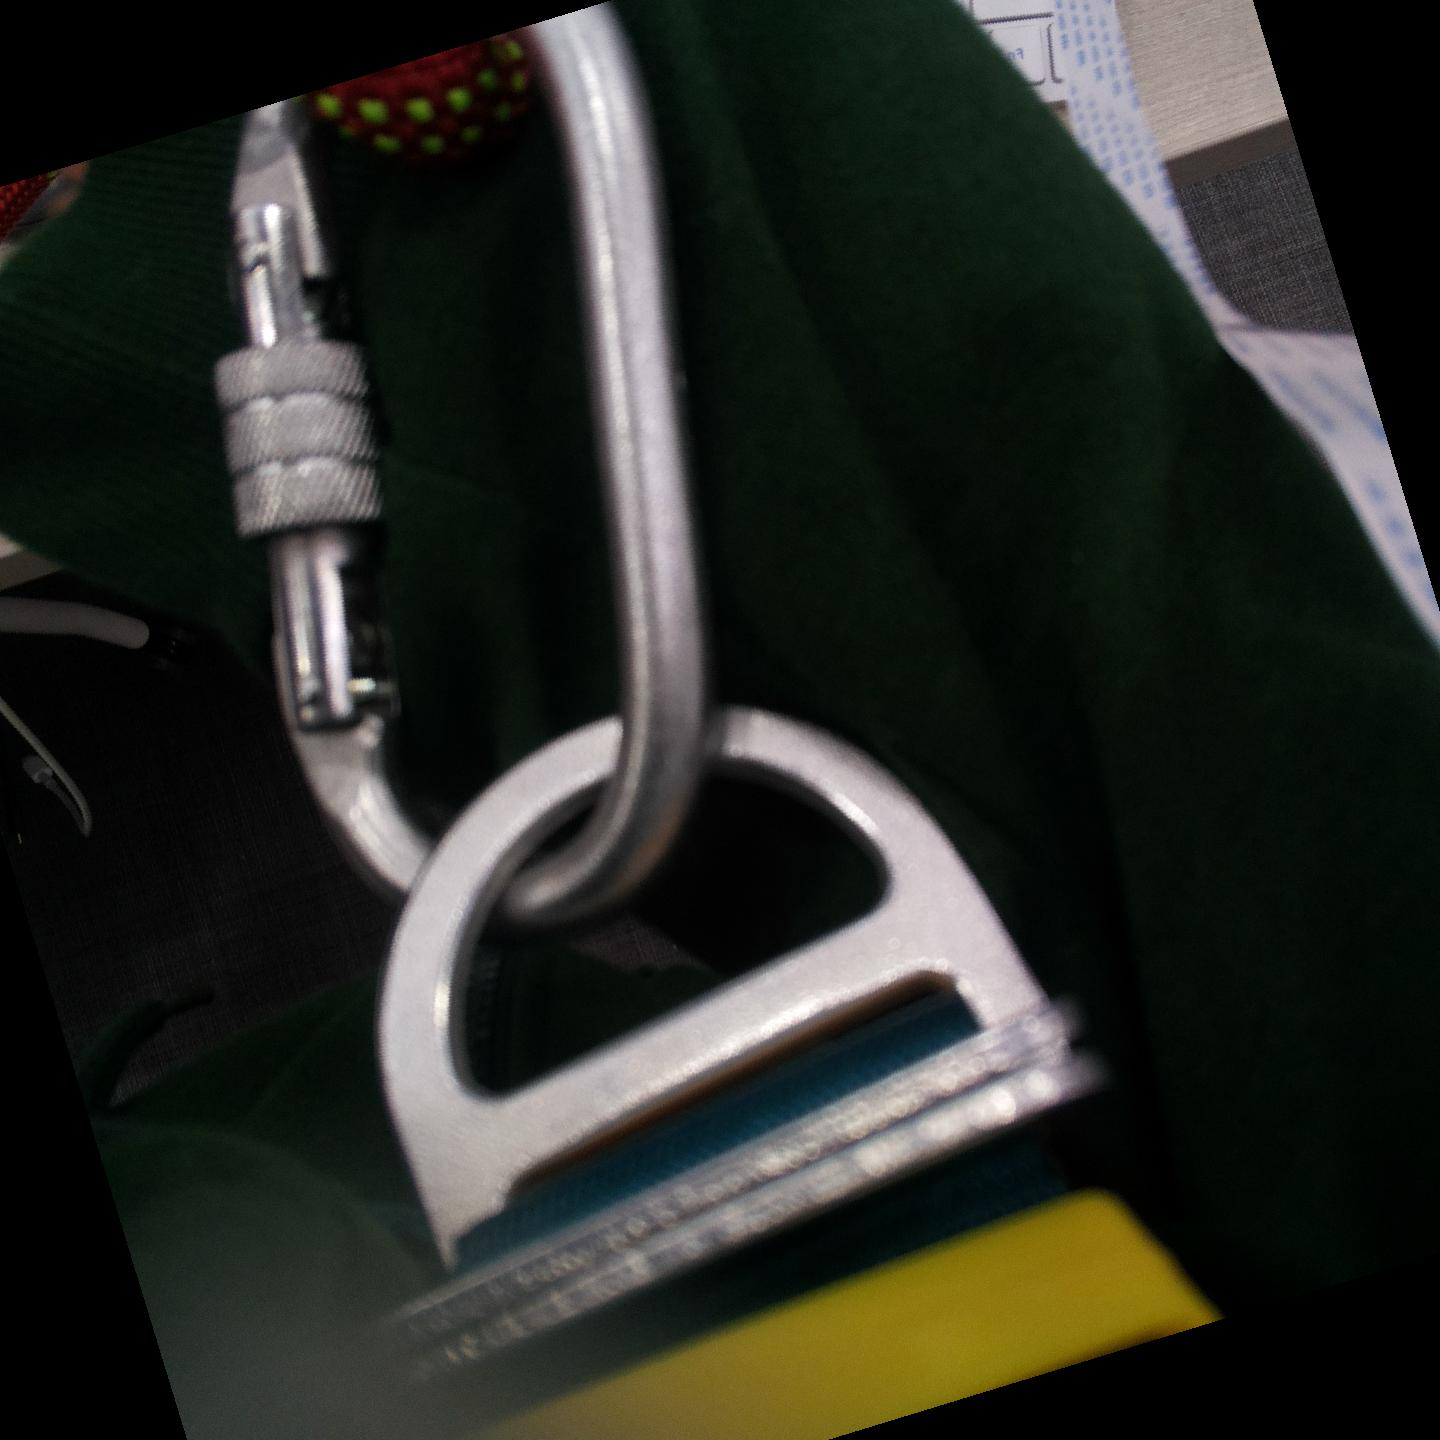SUCCESS: (207, 266, 708, 688)
